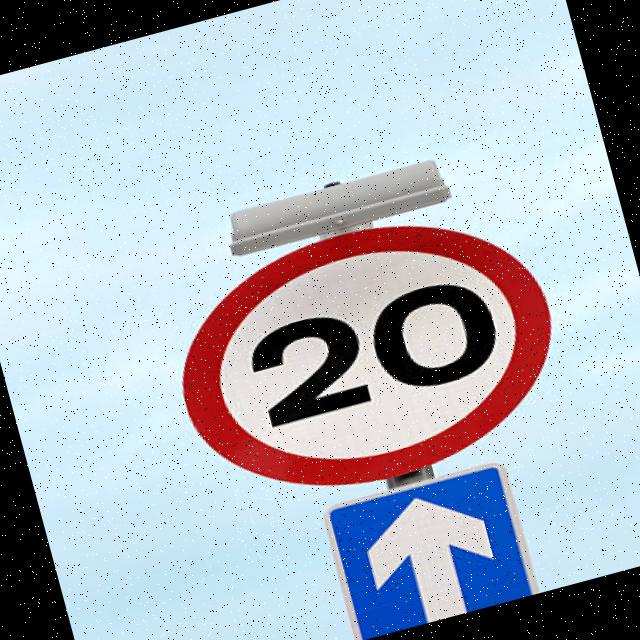speed_limit_20: (146, 180, 583, 525)
